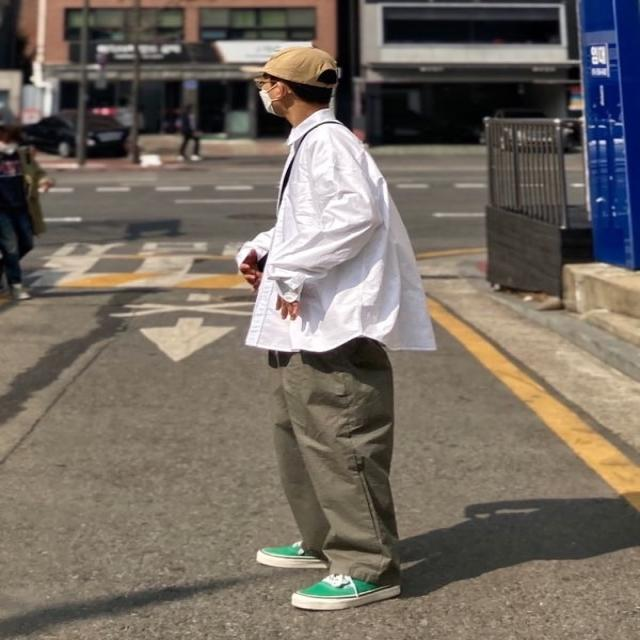cottonpants: (266, 331, 394, 585)
shirt: (238, 100, 436, 349)
